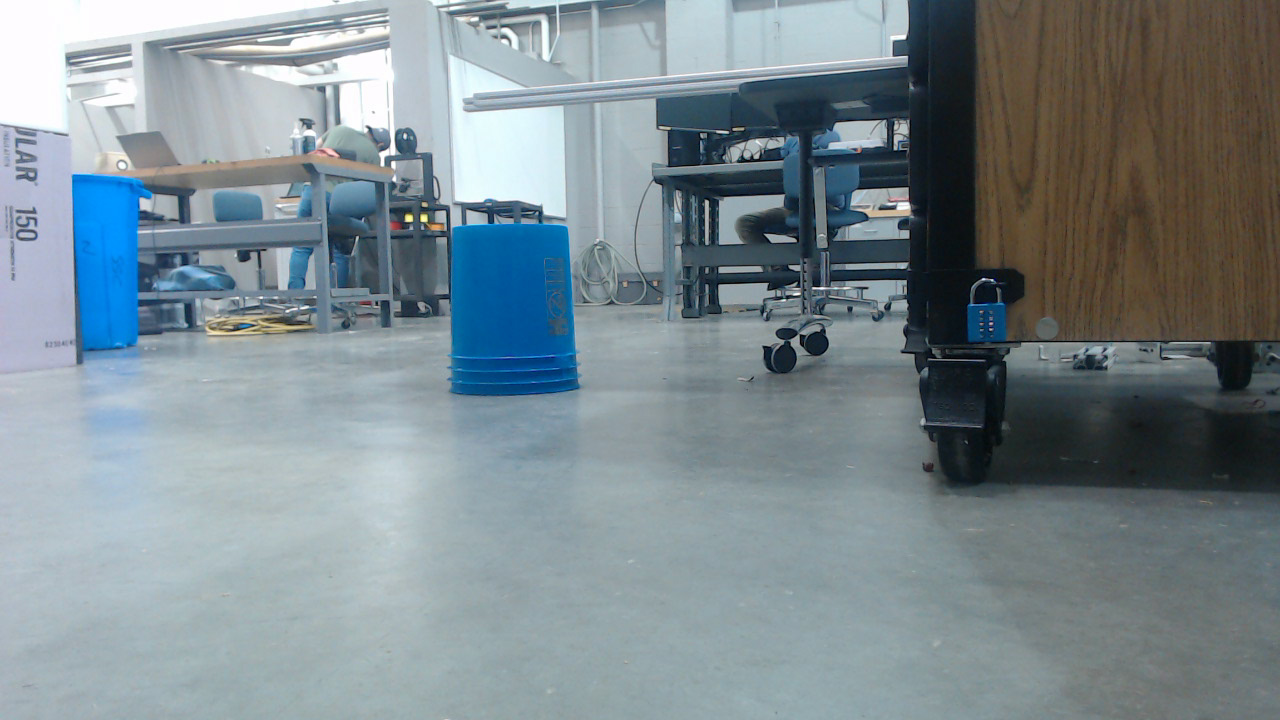blue_bucket: (449, 225, 588, 406)
